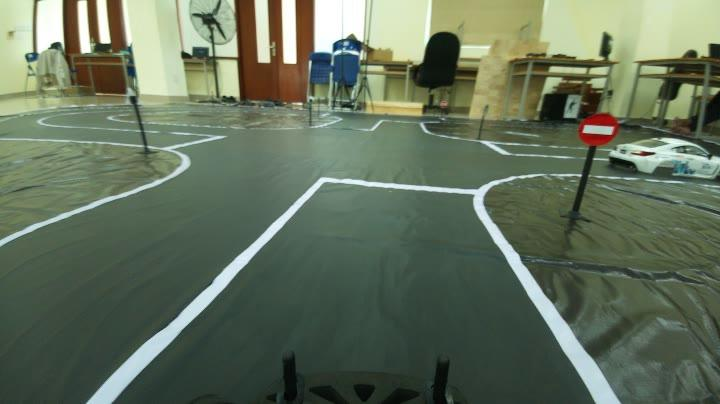no_entry: (574, 108, 622, 151)
